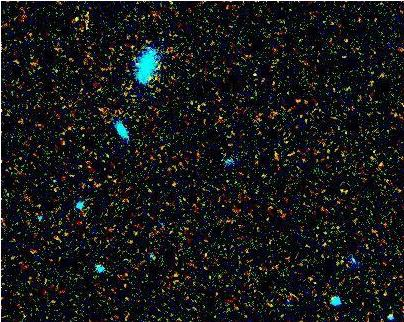star: (124, 49, 154, 79)
